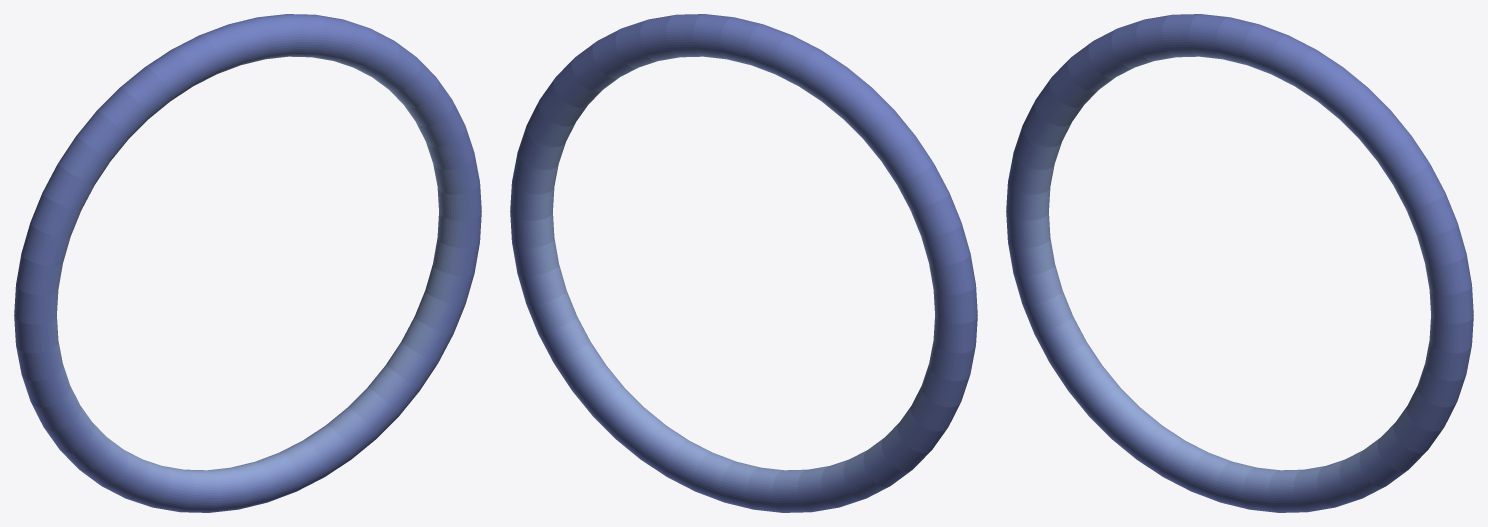
3 renders of one model, left to right at view 1: azimuth 30°, elevation 25°; view 2: azimuth 150°, elevation 25°; view 3: azimuth 330°, elevation 25°, orthographic.
Parts seen in each view (by area): view 1: world; view 2: world; view 3: world.
Part boxes in pixels (left/top/right/bottom): world: left=14, top=14, right=481, bottom=512; world: left=510, top=14, right=977, bottom=512; world: left=1006, top=14, right=1473, bottom=512.
Bounding box in the file's own units: 28.27 × 28.21 × 2.26.
